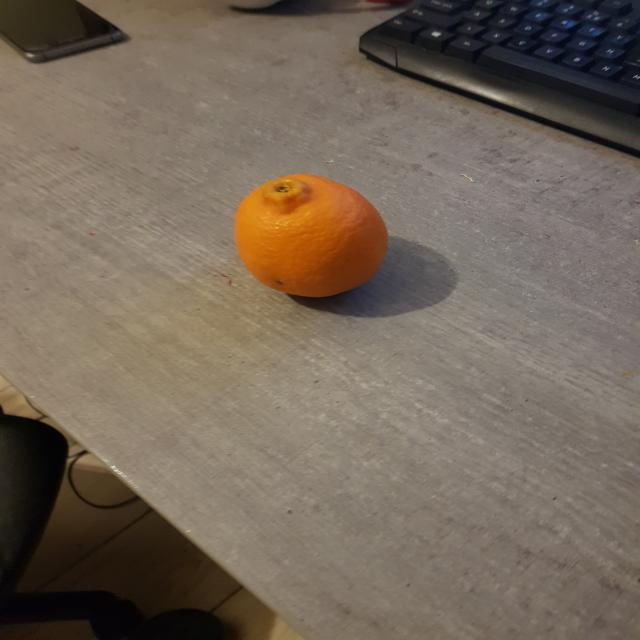Orange: (233, 174, 389, 298)
